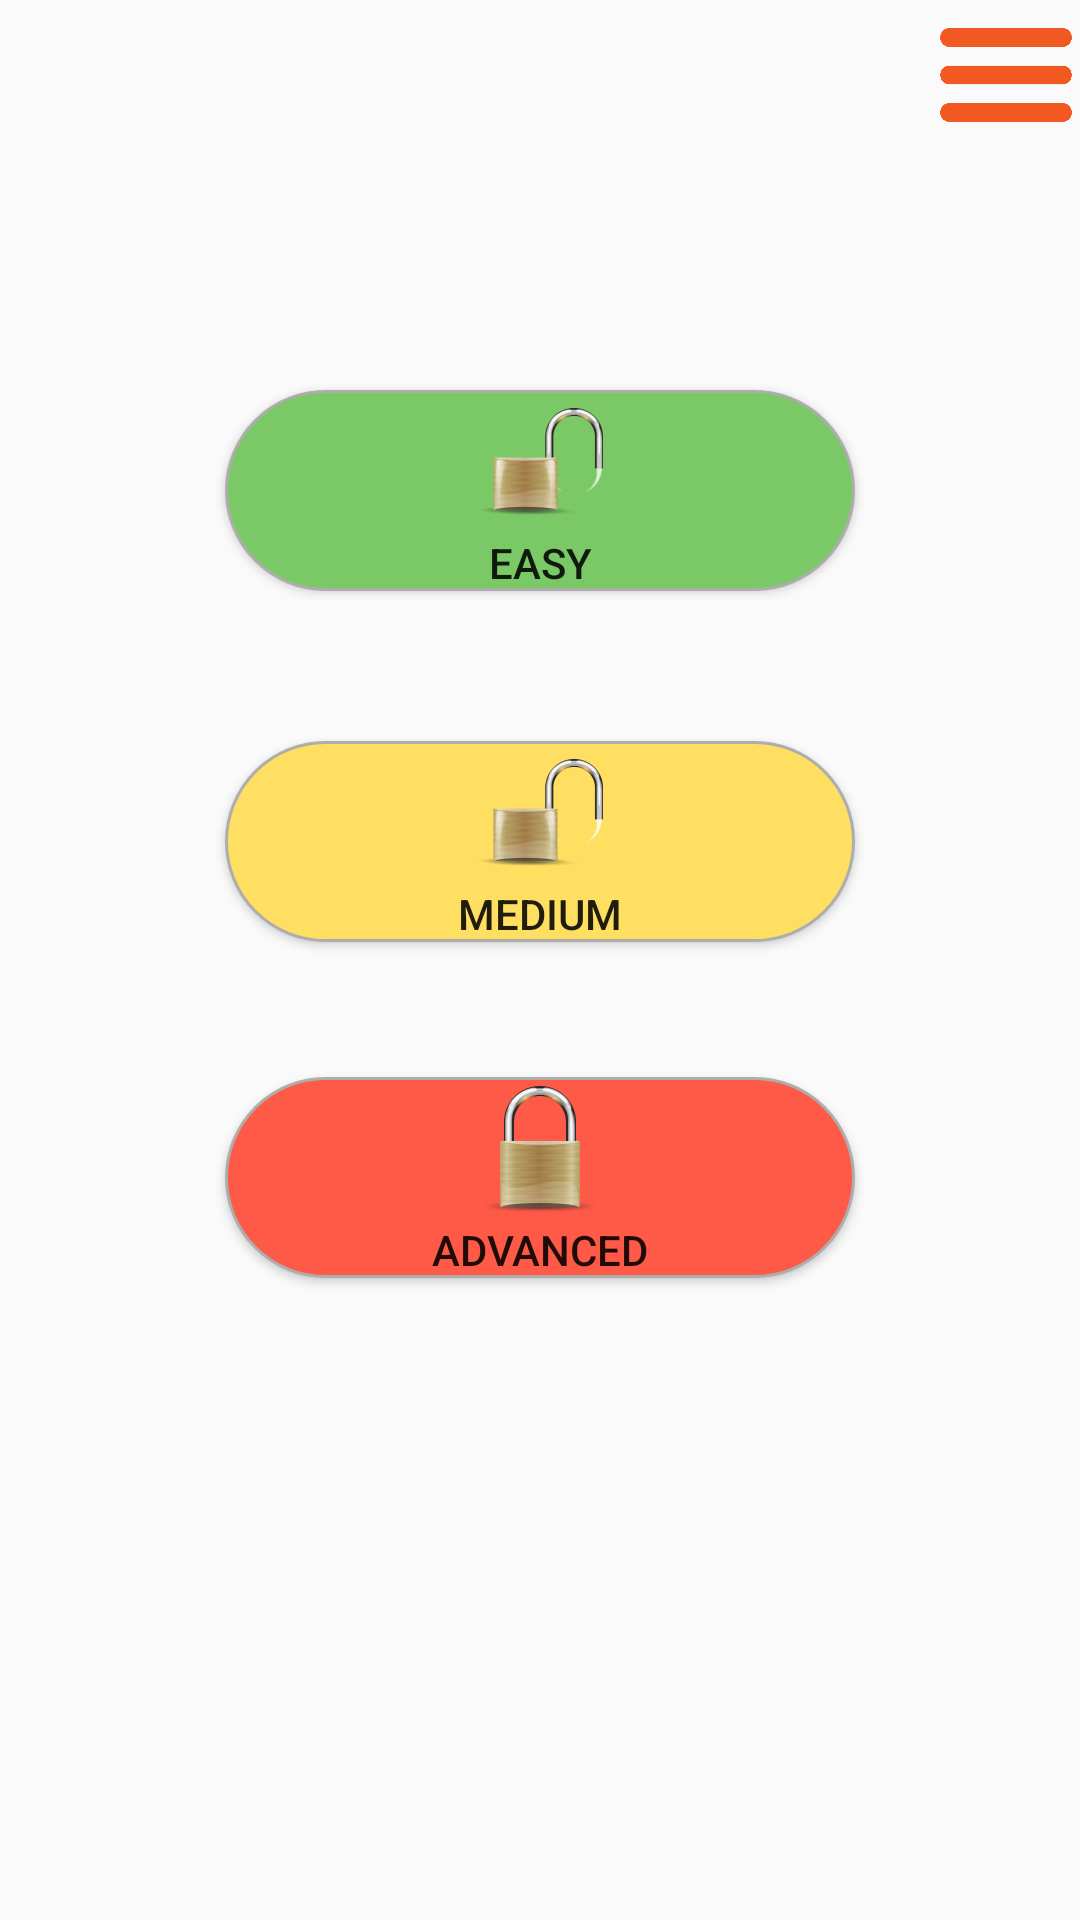

Point at icon controls on the screen. Image size 1080px x 1920px, points as point (x, y).
menu: point (1006, 75)
